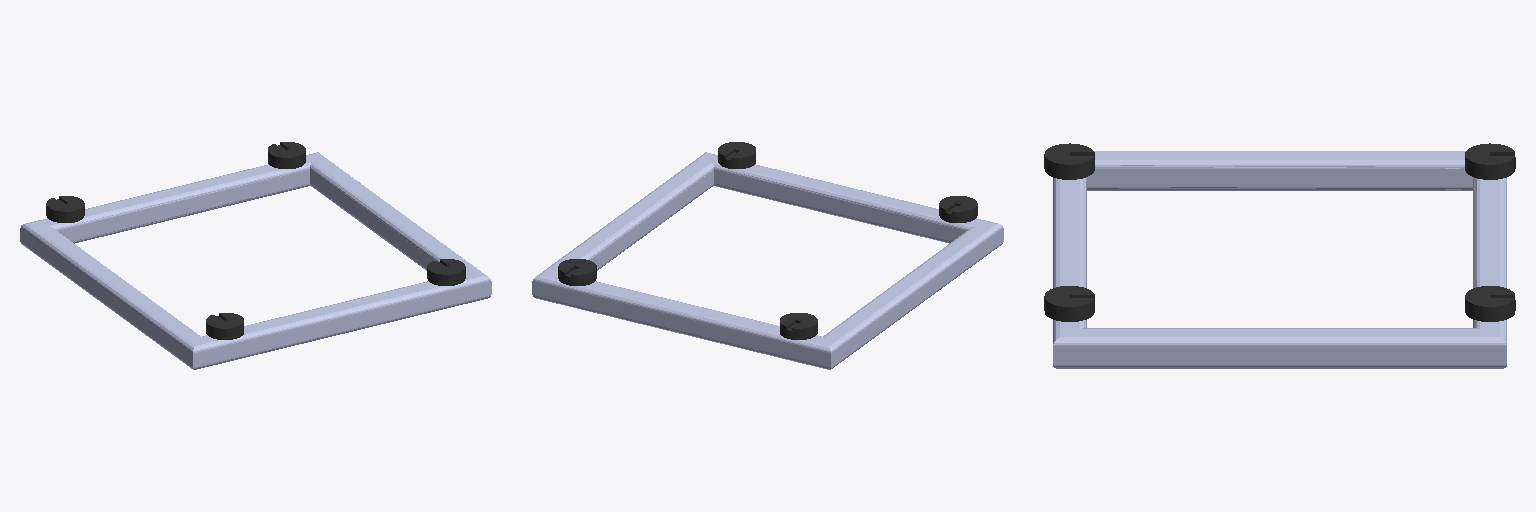
The robot description file, URDF, robot "cablerobot":
<?xml version="1.0" encoding="utf-8"?>
<!-- This URDF was automatically created by SolidWorks to URDF Exporter! Originally created by [author] ([email redacted]) 
     Commit Version: 1.6.0-4-g7f85cfe  Build Version: 1.6.7995.38578
     For more information, please see http://wiki.ros.org/sw_urdf_exporter -->
<robot
  name="cablerobot">
  <link
    name="base_link">
    <inertial>
      <origin
        xyz="0.5 0.5 -1.5406E-08"
        rpy="0 0 0" />
      <mass
        value="8.5368" />
      <inertia
        ixx="0.37067"
        ixy="3.2451E-17"
        ixz="-7.9238E-18"
        iyy="0.36746"
        iyz="-7.0397E-18"
        izz="0.72401" />
    </inertial>
    <visual>
      <origin
        xyz="0 0 0"
        rpy="0 0 0" />
      <geometry>
        <mesh
          filename="package://cablerobot/meshes/base_link.STL" />
      </geometry>
      <material
        name="">
        <color
          rgba="0.79216 0.81961 0.93333 1" />
      </material>
    </visual>
    <collision>
      <origin
        xyz="0 0 0"
        rpy="0 0 0" />
      <geometry>
        <mesh
          filename="package://cablerobot/meshes/base_link.STL" />
      </geometry>
    </collision>
  </link>
  <link
    name="Pulley1_Link">
    <inertial>
      <origin
        xyz="5.5511E-17 -0.00077655 0.048379"
        rpy="0 0 0" />
      <mass
        value="0.45929" />
      <inertia
        ixx="0.00046863"
        ixy="-1.2313E-20"
        ixz="-1.5663E-20"
        iyy="0.00048271"
        iyz="5.9283E-06"
        izz="0.00080225" />
    </inertial>
    <visual>
      <origin
        xyz="0 0 0"
        rpy="0 0 0" />
      <geometry>
        <mesh
          filename="package://cablerobot/meshes/Pulley1_Link.STL" />
      </geometry>
      <material
        name="">
        <color
          rgba="0.25098 0.25098 0.25098 1" />
      </material>
    </visual>
    <collision>
      <origin
        xyz="0 0 0"
        rpy="0 0 0" />
      <geometry>
        <mesh
          filename="package://cablerobot/meshes/Pulley1_Link.STL" />
      </geometry>
    </collision>
  </link>
  <joint
    name="Pulley1_Joint"
    type="continuous">
    <origin
      xyz="0.1 0 0.02"
      rpy="0 0 0" />
    <parent
      link="base_link" />
    <child
      link="Pulley1_Link" />
    <axis
      xyz="0 0 1" />
      <joint_controller name="position_controller"/> 
  </joint>
  <controller name="position_controller" type="effort_controllers/JointPositionController">
    <joint name="pulley1_joint"/>
  </controller>
    
  <link
    name="Pulley2_Link">
    <inertial>
      <origin
        xyz="0 -0.00077655 0.048379"
        rpy="0 0 0" />
      <mass
        value="0.45929" />
      <inertia
        ixx="0.00046863"
        ixy="-5.0146E-20"
        ixz="-5.0455E-21"
        iyy="0.00048271"
        iyz="5.9283E-06"
        izz="0.00080225" />
    </inertial>
    <visual>
      <origin
        xyz="0 0 0"
        rpy="0 0 0" />
      <geometry>
        <mesh
          filename="package://cablerobot/meshes/Pulley2_Link.STL" />
      </geometry>
      <material
        name="">
        <color
          rgba="0.25098 0.25098 0.25098 1" />
      </material>
    </visual>
    <collision>
      <origin
        xyz="0 0 0"
        rpy="0 0 0" />
      <geometry>
        <mesh
          filename="package://cablerobot/meshes/Pulley2_Link.STL" />
      </geometry>
    </collision>
  </link>
  <joint
    name="Pulley2_Joint"
    type="continuous">
    <origin
      xyz="0.9 0 0.02"
      rpy="0 0 0" />
    <parent
      link="base_link" />
    <child
      link="Pulley2_Link" />
    <axis
      xyz="0 0 1" />
  </joint>
  <link
    name="Pulley3_Link">
    <inertial>
      <origin
        xyz="-5.5511E-17 -0.00077655 0.048379"
        rpy="0 0 0" />
      <mass
        value="0.45929" />
      <inertia
        ixx="0.00046863"
        ixy="-1.3876E-19"
        ixz="-2.3049E-20"
        iyy="0.00048271"
        iyz="5.9283E-06"
        izz="0.00080225" />
    </inertial>
    <visual>
      <origin
        xyz="0 0 0"
        rpy="0 0 0" />
      <geometry>
        <mesh
          filename="package://cablerobot/meshes/Pulley3_Link.STL" />
      </geometry>
      <material
        name="">
        <color
          rgba="0.25098 0.25098 0.25098 1" />
      </material>
    </visual>
    <collision>
      <origin
        xyz="0 0 0"
        rpy="0 0 0" />
      <geometry>
        <mesh
          filename="package://cablerobot/meshes/Pulley3_Link.STL" />
      </geometry>
    </collision>
  </link>
  <joint
    name="Pulley3_Joint"
    type="continuous">
    <origin
      xyz="0.9 1 0.02"
      rpy="0 0 0" />
    <parent
      link="base_link" />
    <child
      link="Pulley3_Link" />
    <axis
      xyz="0 0 1" />
  </joint>
  <link
    name="Pulley4_Link">
    <inertial>
      <origin
        xyz="5.5511E-17 -0.00077655 0.048379"
        rpy="0 0 0" />
      <mass
        value="0.45929" />
      <inertia
        ixx="0.00046863"
        ixy="1.6031E-20"
        ixz="-5.1415E-21"
        iyy="0.00048271"
        iyz="5.9283E-06"
        izz="0.00080225" />
    </inertial>
    <visual>
      <origin
        xyz="0 0 0"
        rpy="0 0 0" />
      <geometry>
        <mesh
          filename="package://cablerobot/meshes/Pulley4_Link.STL" />
      </geometry>
      <material
        name="">
        <color
          rgba="0.25098 0.25098 0.25098 1" />
      </material>
    </visual>
    <collision>
      <origin
        xyz="0 0 0"
        rpy="0 0 0" />
      <geometry>
        <mesh
          filename="package://cablerobot/meshes/Pulley4_Link.STL" />
      </geometry>
    </collision>
  </link>
  <joint
    name="Pulley4_Joint"
    type="continuous">
    <origin
      xyz="0.1 1 0.02"
      rpy="0 0 0" />
    <parent
      link="base_link" />
    <child
      link="Pulley4_Link" />
    <axis
      xyz="0 0 1" />
  </joint>
</robot>

--- Facts derived from the render (not from the file) ---
The picture shows the robot from 3 angles, left to right: view 1: azimuth 30°, elevation 25°; view 2: azimuth 150°, elevation 25°; view 3: azimuth 270°, elevation 25°; orthographic projection.
Robot: cablerobot — 5 links, 4 joints (4 continuous); root link base_link; default pose: every joint at zero.
Links seen in each view (by area): view 1: base_link, Pulley2_Link, Pulley4_Link, Pulley3_Link, Pulley1_Link; view 2: base_link, Pulley1_Link, Pulley3_Link, Pulley2_Link, Pulley4_Link; view 3: base_link, Pulley2_Link, Pulley1_Link, Pulley3_Link, Pulley4_Link.
Boxes of the visible links, <box> form: base_link: <box>20,152,491,369</box>; Pulley2_Link: <box>427,259,465,285</box>; Pulley4_Link: <box>46,196,84,222</box>; Pulley3_Link: <box>268,142,305,168</box>; Pulley1_Link: <box>206,313,243,339</box>; base_link: <box>532,152,1003,369</box>; Pulley1_Link: <box>939,196,977,222</box>; Pulley3_Link: <box>558,259,596,285</box>; Pulley2_Link: <box>718,142,755,168</box>; Pulley4_Link: <box>780,313,817,339</box>; base_link: <box>1053,151,1506,368</box>; Pulley2_Link: <box>1044,286,1094,321</box>; Pulley1_Link: <box>1044,143,1094,179</box>; Pulley3_Link: <box>1465,286,1515,321</box>; Pulley4_Link: <box>1465,143,1515,179</box>.
Size in the robot's own frame: 1.08 by 1.12 by 0.13 metres.
Meshes: 5 distinct files referenced, 5 mesh visuals loaded (5 binary STL).